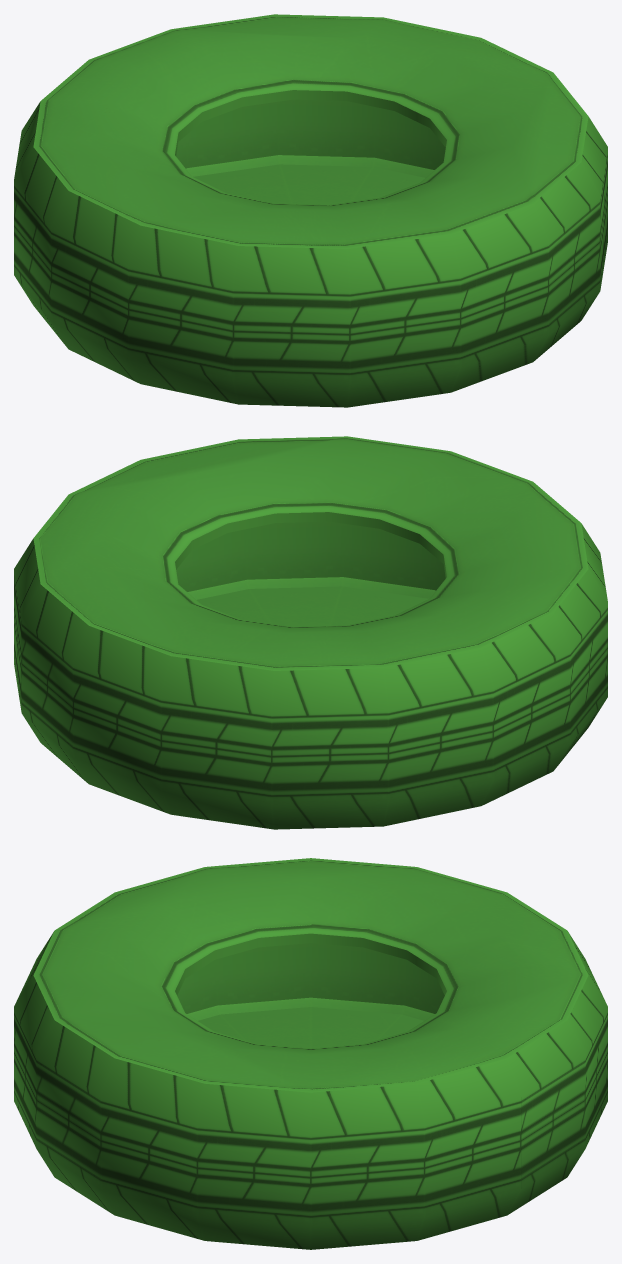
File: active.Tyre-03.glb
The picture shows the model from 3 angles, top to bottom: view 1: azimuth 30°, elevation 25°; view 2: azimuth 150°, elevation 25°; view 3: azimuth 270°, elevation 25°; orthographic projection.
Parts seen in each view (by area): view 1: active.Tyre 03; view 2: active.Tyre 03; view 3: active.Tyre 03.
Boxes of the visible parts, bbox=[...] form: active.Tyre 03: bbox=[14, 14, 607, 407]; active.Tyre 03: bbox=[14, 436, 607, 829]; active.Tyre 03: bbox=[14, 858, 607, 1249].
Bounding box in the file's own units: 1.14 × 0.3667 × 1.14.
1 material, 1 textured.
